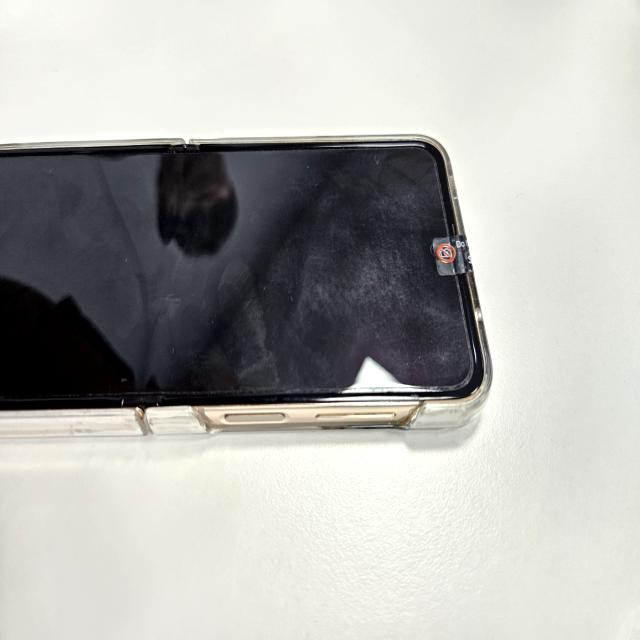phone: (1, 136, 494, 441)
sticker: (433, 235, 475, 275)
